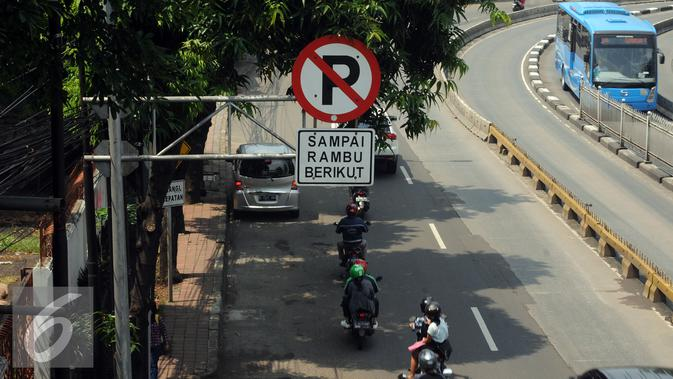car: (555, 2, 660, 117), (233, 143, 301, 221), (328, 105, 399, 177)
motorbike: (408, 297, 456, 378), (341, 258, 382, 347), (336, 205, 367, 275)
